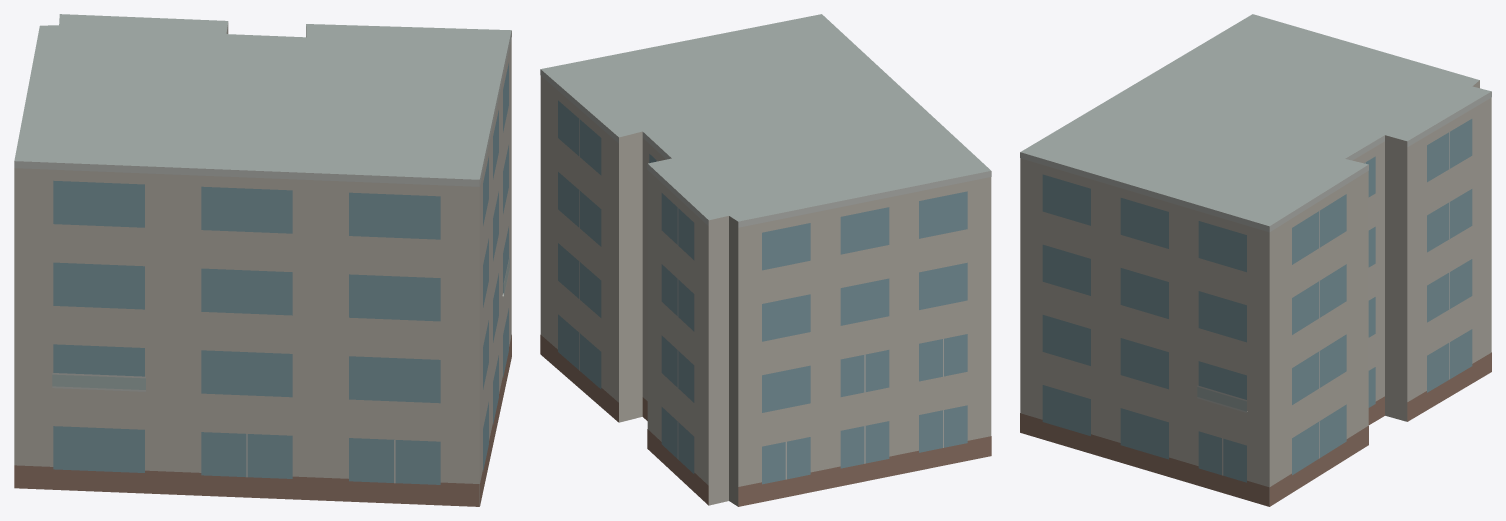
File: survey-upis-32908763.glb
3 views of the same model, side by side, from view 1: azimuth 30°, elevation 25°; view 2: azimuth 150°, elevation 25°; view 3: azimuth 270°, elevation 25° (orthographic). The views are drawn at different scales.
Parts seen in each view (by area): view 1: survey-upis-32908763.tmp; view 2: survey-upis-32908763.tmp; view 3: survey-upis-32908763.tmp.
Part boxes in pixels (x1=…): survey-upis-32908763.tmp: x1=14, y1=14, x2=511, y2=506; survey-upis-32908763.tmp: x1=540, y1=14, x2=991, y2=506; survey-upis-32908763.tmp: x1=1020, y1=14, x2=1491, y2=506.
Size of the model in its own units: 18.4 by 11.33 by 17.27.
